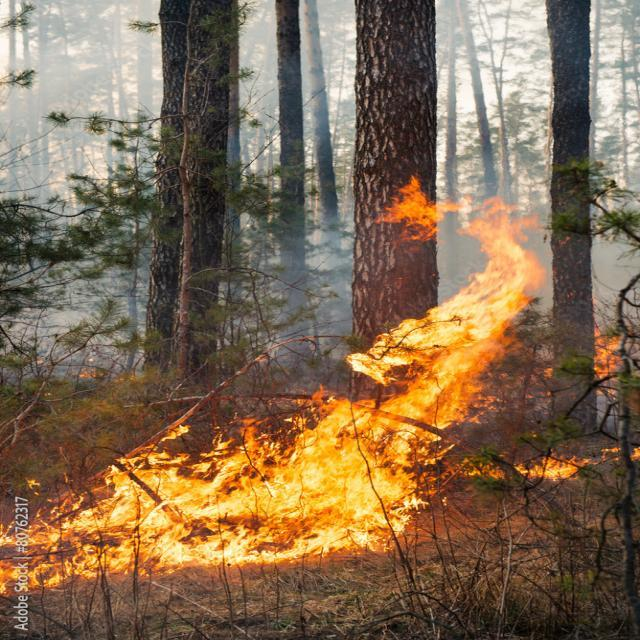Fire: (2, 185, 534, 590)
